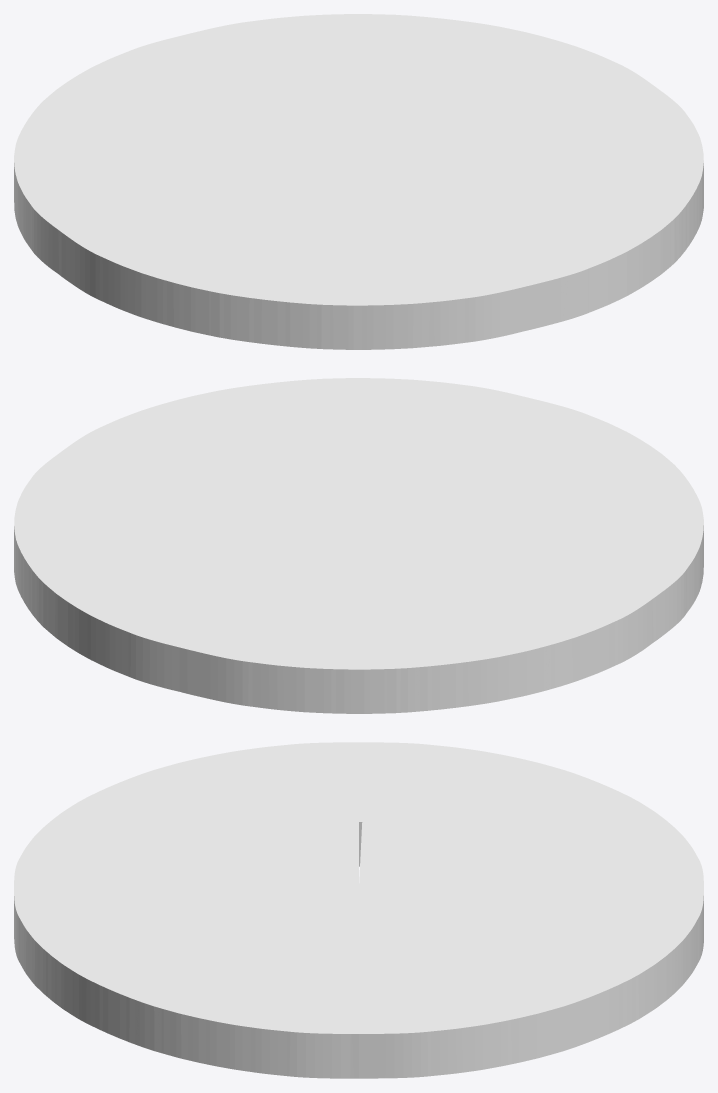
The model's file is Menko11.fbx.
3 views of the same model, one above another, from view 1: azimuth 30°, elevation 25°; view 2: azimuth 150°, elevation 25°; view 3: azimuth 270°, elevation 25° (orthographic).
Visible parts, largest first — view 1: Down, Side; view 2: Down, Side; view 3: Down, Side.
Part boxes in pixels (left/top/right/bottom): Down: left=14, top=14, right=703, bottom=305; Side: left=14, top=163, right=703, bottom=349; Down: left=14, top=378, right=703, bottom=669; Side: left=14, top=525, right=703, bottom=713; Down: left=14, top=742, right=703, bottom=1033; Side: left=14, top=822, right=703, bottom=1078.
Bounding box in the file's own units: 175 × 12.5 × 175.
